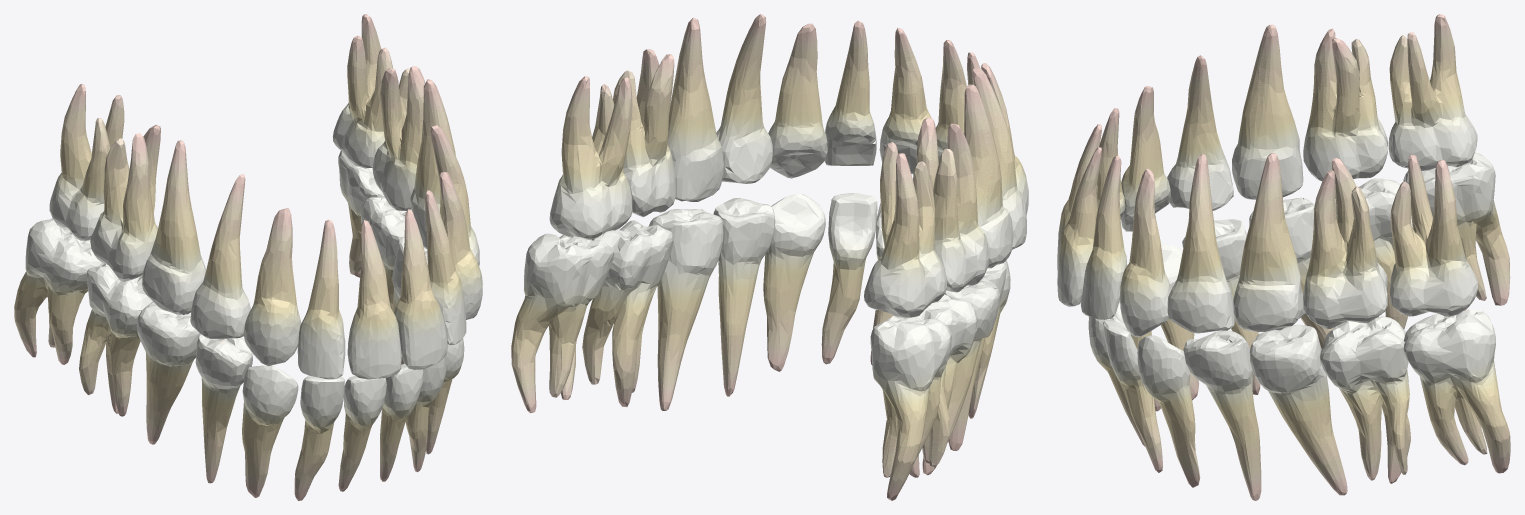
The model's file is teeth.fbx.
3 renders of one model, left to right at view 1: azimuth 30°, elevation 25°; view 2: azimuth 150°, elevation 25°; view 3: azimuth 270°, elevation 25°, orthographic. The views are drawn at different scales.
Parts seen in each view (by area): view 1: up_lateral_incisor; view 2: up_lateral_incisor; view 3: up_lateral_incisor.
Part boxes in pixels (x1,y1,x2,y2): up_lateral_incisor: (14,14,482,500); up_lateral_incisor: (511,14,1028,500); up_lateral_incisor: (1057,14,1510,500).
Size of the model in its own units: 26.62 by 23.75 by 27.04.
1 material, 1 textured.
